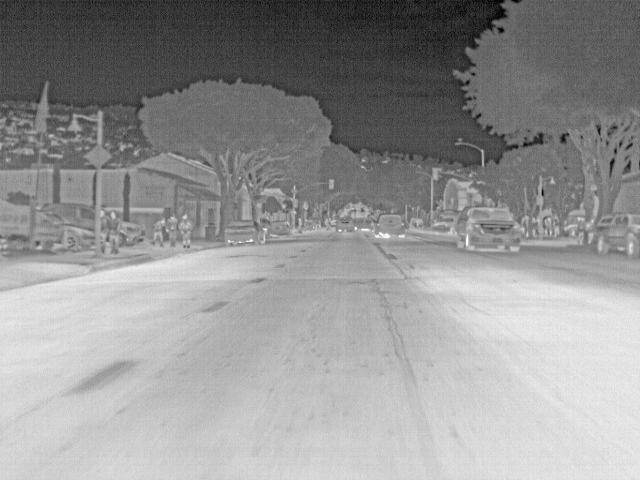car: (458, 204, 522, 252), (37, 211, 98, 251), (596, 212, 640, 258), (40, 202, 95, 230), (224, 218, 266, 248), (1, 204, 29, 248), (376, 212, 406, 238), (121, 220, 144, 248), (269, 218, 291, 237), (336, 216, 356, 234), (564, 214, 577, 238), (355, 216, 373, 230)
person: (106, 210, 120, 253), (180, 210, 194, 247), (166, 211, 180, 247), (152, 214, 166, 246), (100, 209, 107, 249), (532, 215, 544, 237), (543, 215, 555, 236), (576, 219, 586, 244), (297, 218, 303, 232)
